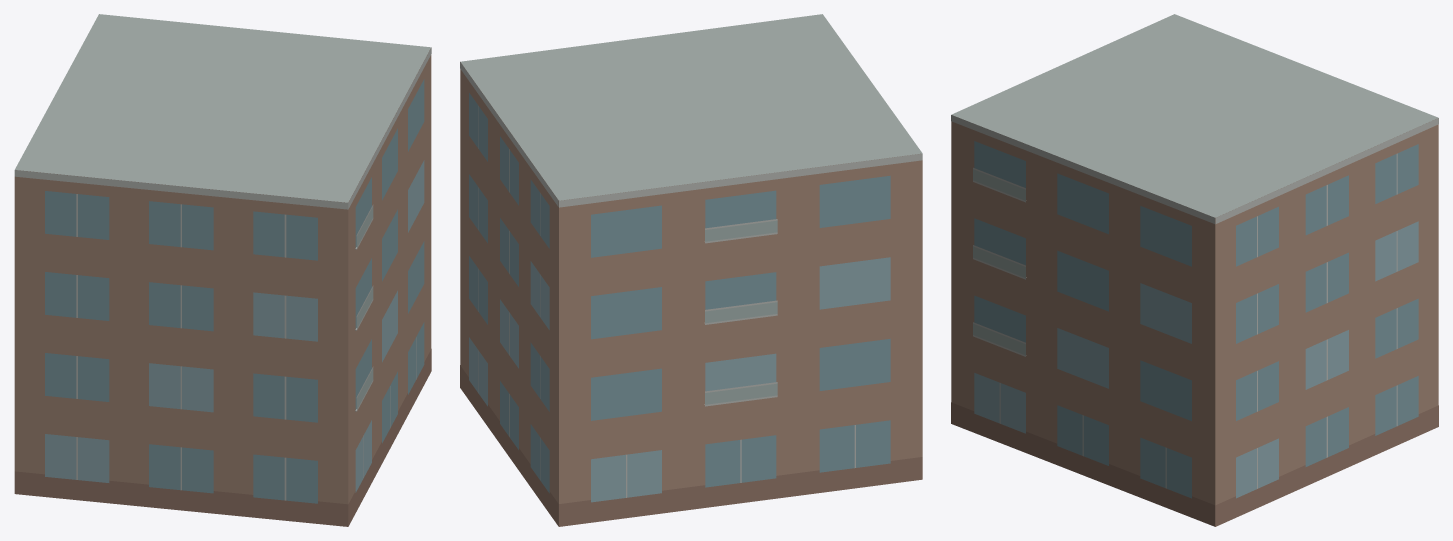
File: survey-upis-32968034.glb
The picture shows the model from 3 angles, left to right: view 1: azimuth 30°, elevation 25°; view 2: azimuth 150°, elevation 25°; view 3: azimuth 270°, elevation 25°; orthographic projection. The views are drawn at different scales.
Parts seen in each view (by area): view 1: survey-upis-32968034.tmp; view 2: survey-upis-32968034.tmp; view 3: survey-upis-32968034.tmp.
Part boxes in pixels (<box>): survey-upis-32968034.tmp: <box>14,14,431,526</box>; survey-upis-32968034.tmp: <box>460,14,922,526</box>; survey-upis-32968034.tmp: <box>951,14,1438,526</box>.
Bounding box in the file's own units: 16.42 × 11.6 × 16.6.
